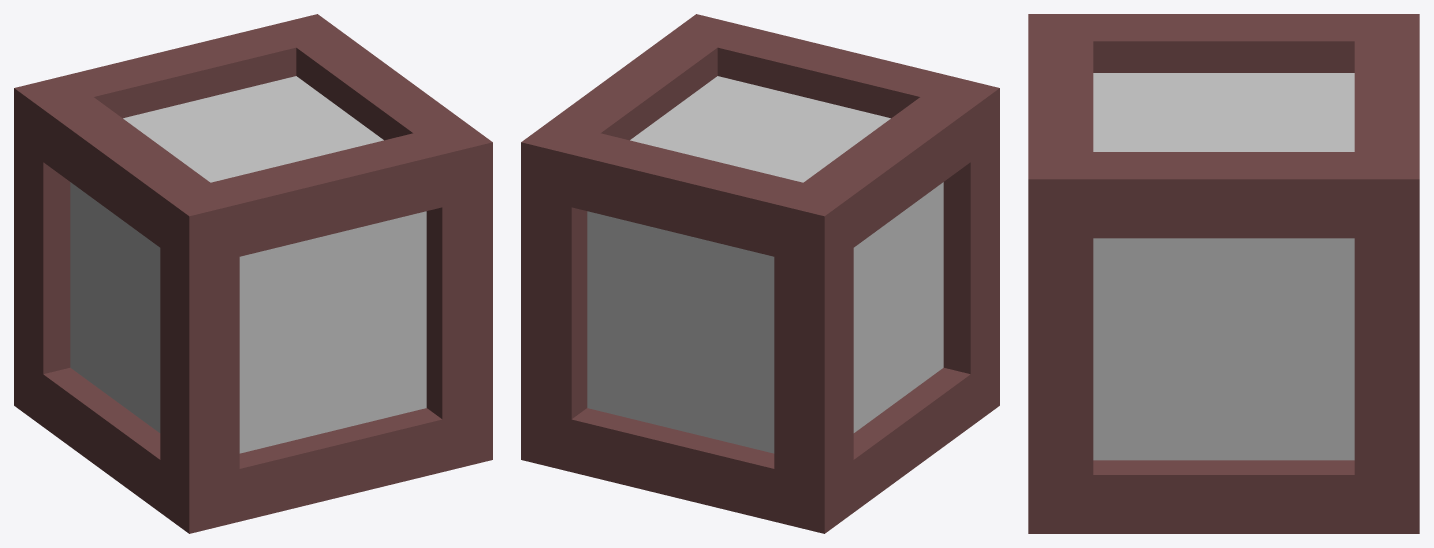
The picture shows the model from 3 angles, left to right: view 1: azimuth 30°, elevation 25°; view 2: azimuth 150°, elevation 25°; view 3: azimuth 270°, elevation 25°; orthographic projection. The views are drawn at different scales.
Visible parts, largest first — view 1: element3; view 2: element3; view 3: element3.
Boxes of the visible parts, x1=… form: element3: x1=14, y1=14, x2=492, y2=533; element3: x1=521, y1=14, x2=999, y2=533; element3: x1=1028, y1=14, x2=1419, y2=533.
Bounding box in the file's own units: 52.2 × 52.2 × 52.2.
